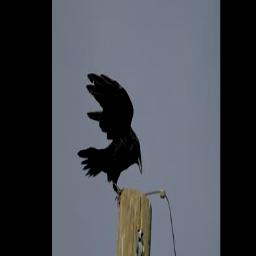Crow: (76, 70, 143, 204)
